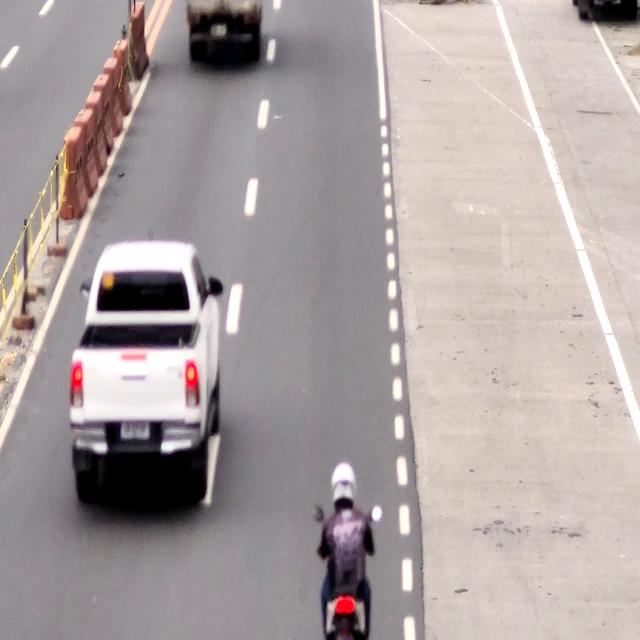Car: (73, 236, 221, 501)
License-Plate: (120, 420, 151, 443)
Motorcycle: (315, 464, 380, 640)
